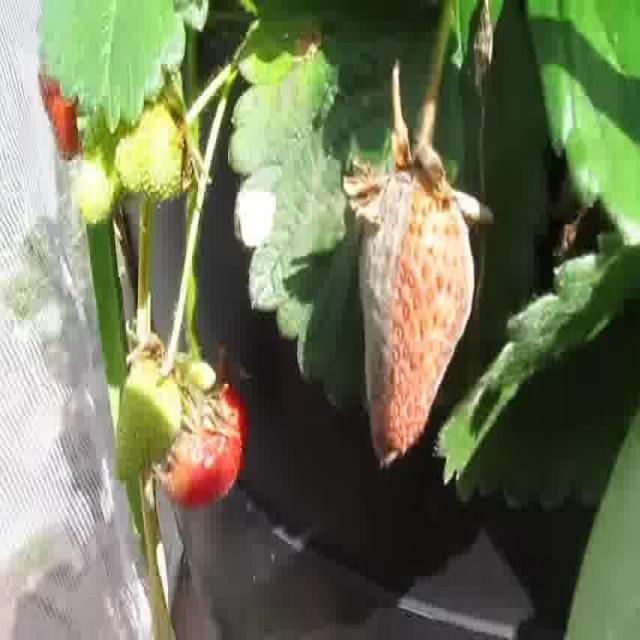Fruta sana: (164, 375, 245, 507), (116, 352, 179, 485), (116, 113, 187, 202)
Moho gris: (343, 150, 479, 470)
